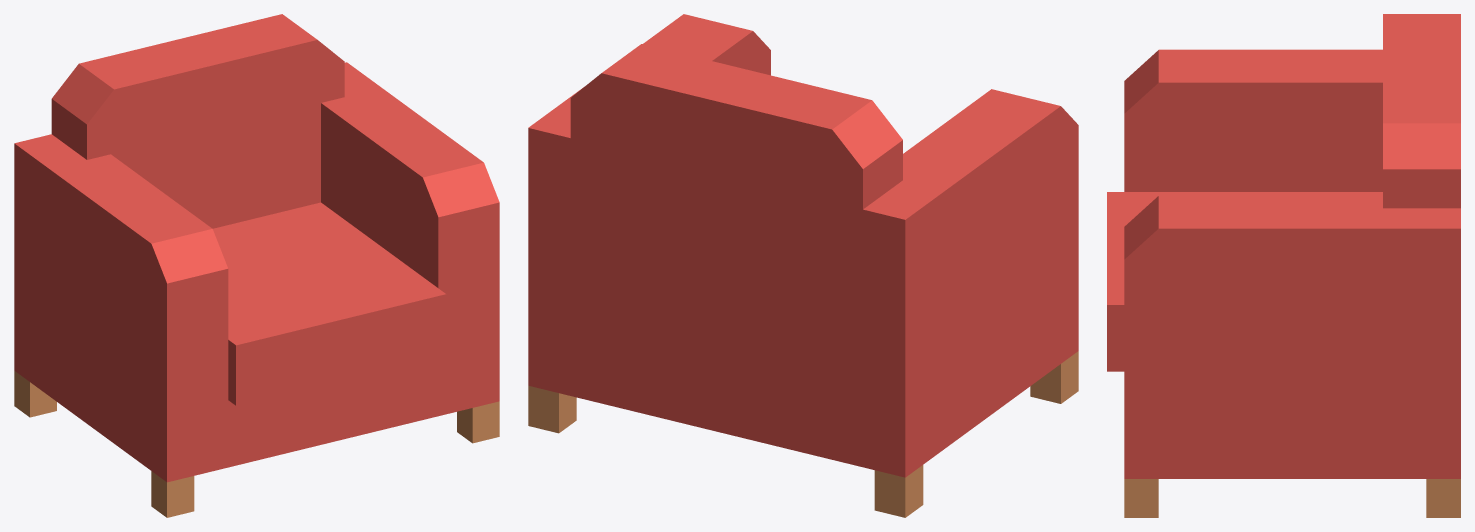
3 views of the same model, side by side, from view 1: azimuth 30°, elevation 25°; view 2: azimuth 150°, elevation 25°; view 3: azimuth 270°, elevation 25° (orthographic). The views are drawn at different scales.
Visible parts, largest first — view 1: loungeChair; view 2: loungeChair; view 3: loungeChair.
Boxes of the visible parts, bbox=[...] form: loungeChair: bbox=[14, 14, 499, 517]; loungeChair: bbox=[528, 14, 1078, 517]; loungeChair: bbox=[1107, 14, 1460, 517].
Size of the model in its own units: 1.15 by 1.08 by 0.9596.
